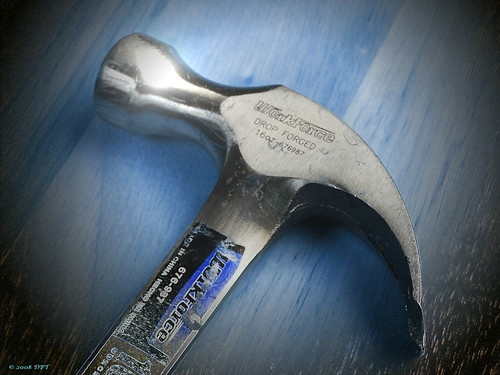hammer: (72, 23, 432, 374)
